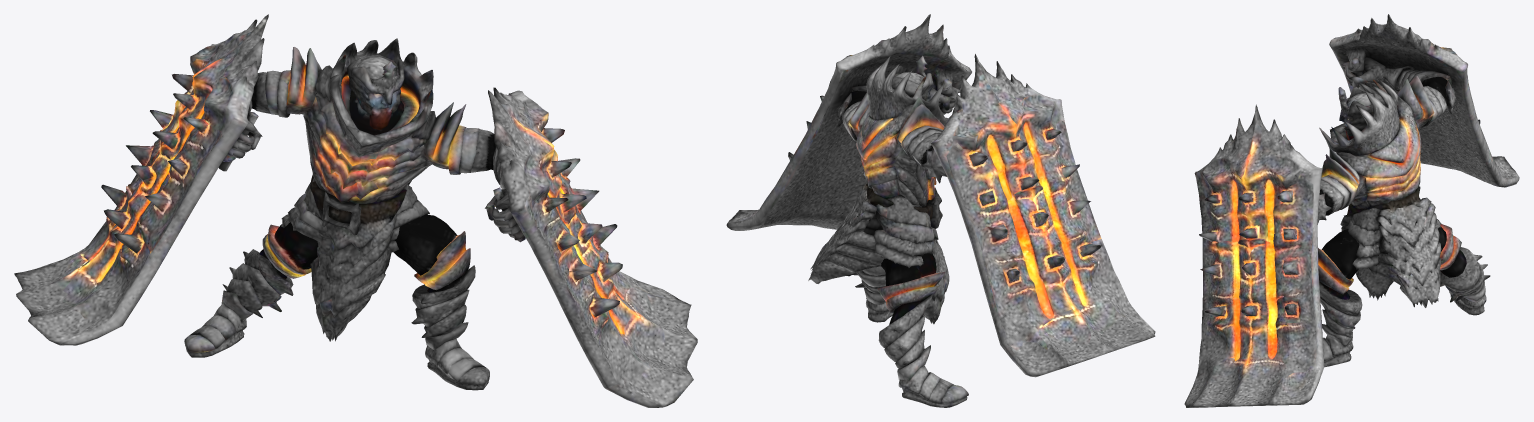
File: MZ4250 - Fire Giant Dreadnought_Fight_25.glb
3 views of the same model, side by side, from view 1: azimuth 30°, elevation 25°; view 2: azimuth 150°, elevation 25°; view 3: azimuth 270°, elevation 25° (orthographic). The views are drawn at different scales.
Parts seen in each view (by area): view 1: Fire Giant Dreadnought.001; view 2: Fire Giant Dreadnought.001; view 3: Fire Giant Dreadnought.001.
Part boxes in pixels (bbox=[...]): Fire Giant Dreadnought.001: bbox=[14, 14, 697, 407]; Fire Giant Dreadnought.001: bbox=[726, 14, 1155, 407]; Fire Giant Dreadnought.001: bbox=[1184, 14, 1519, 407].
Size of the model in its own units: 447 by 276 by 287.
Materials: 1 (1 with a texture image).
